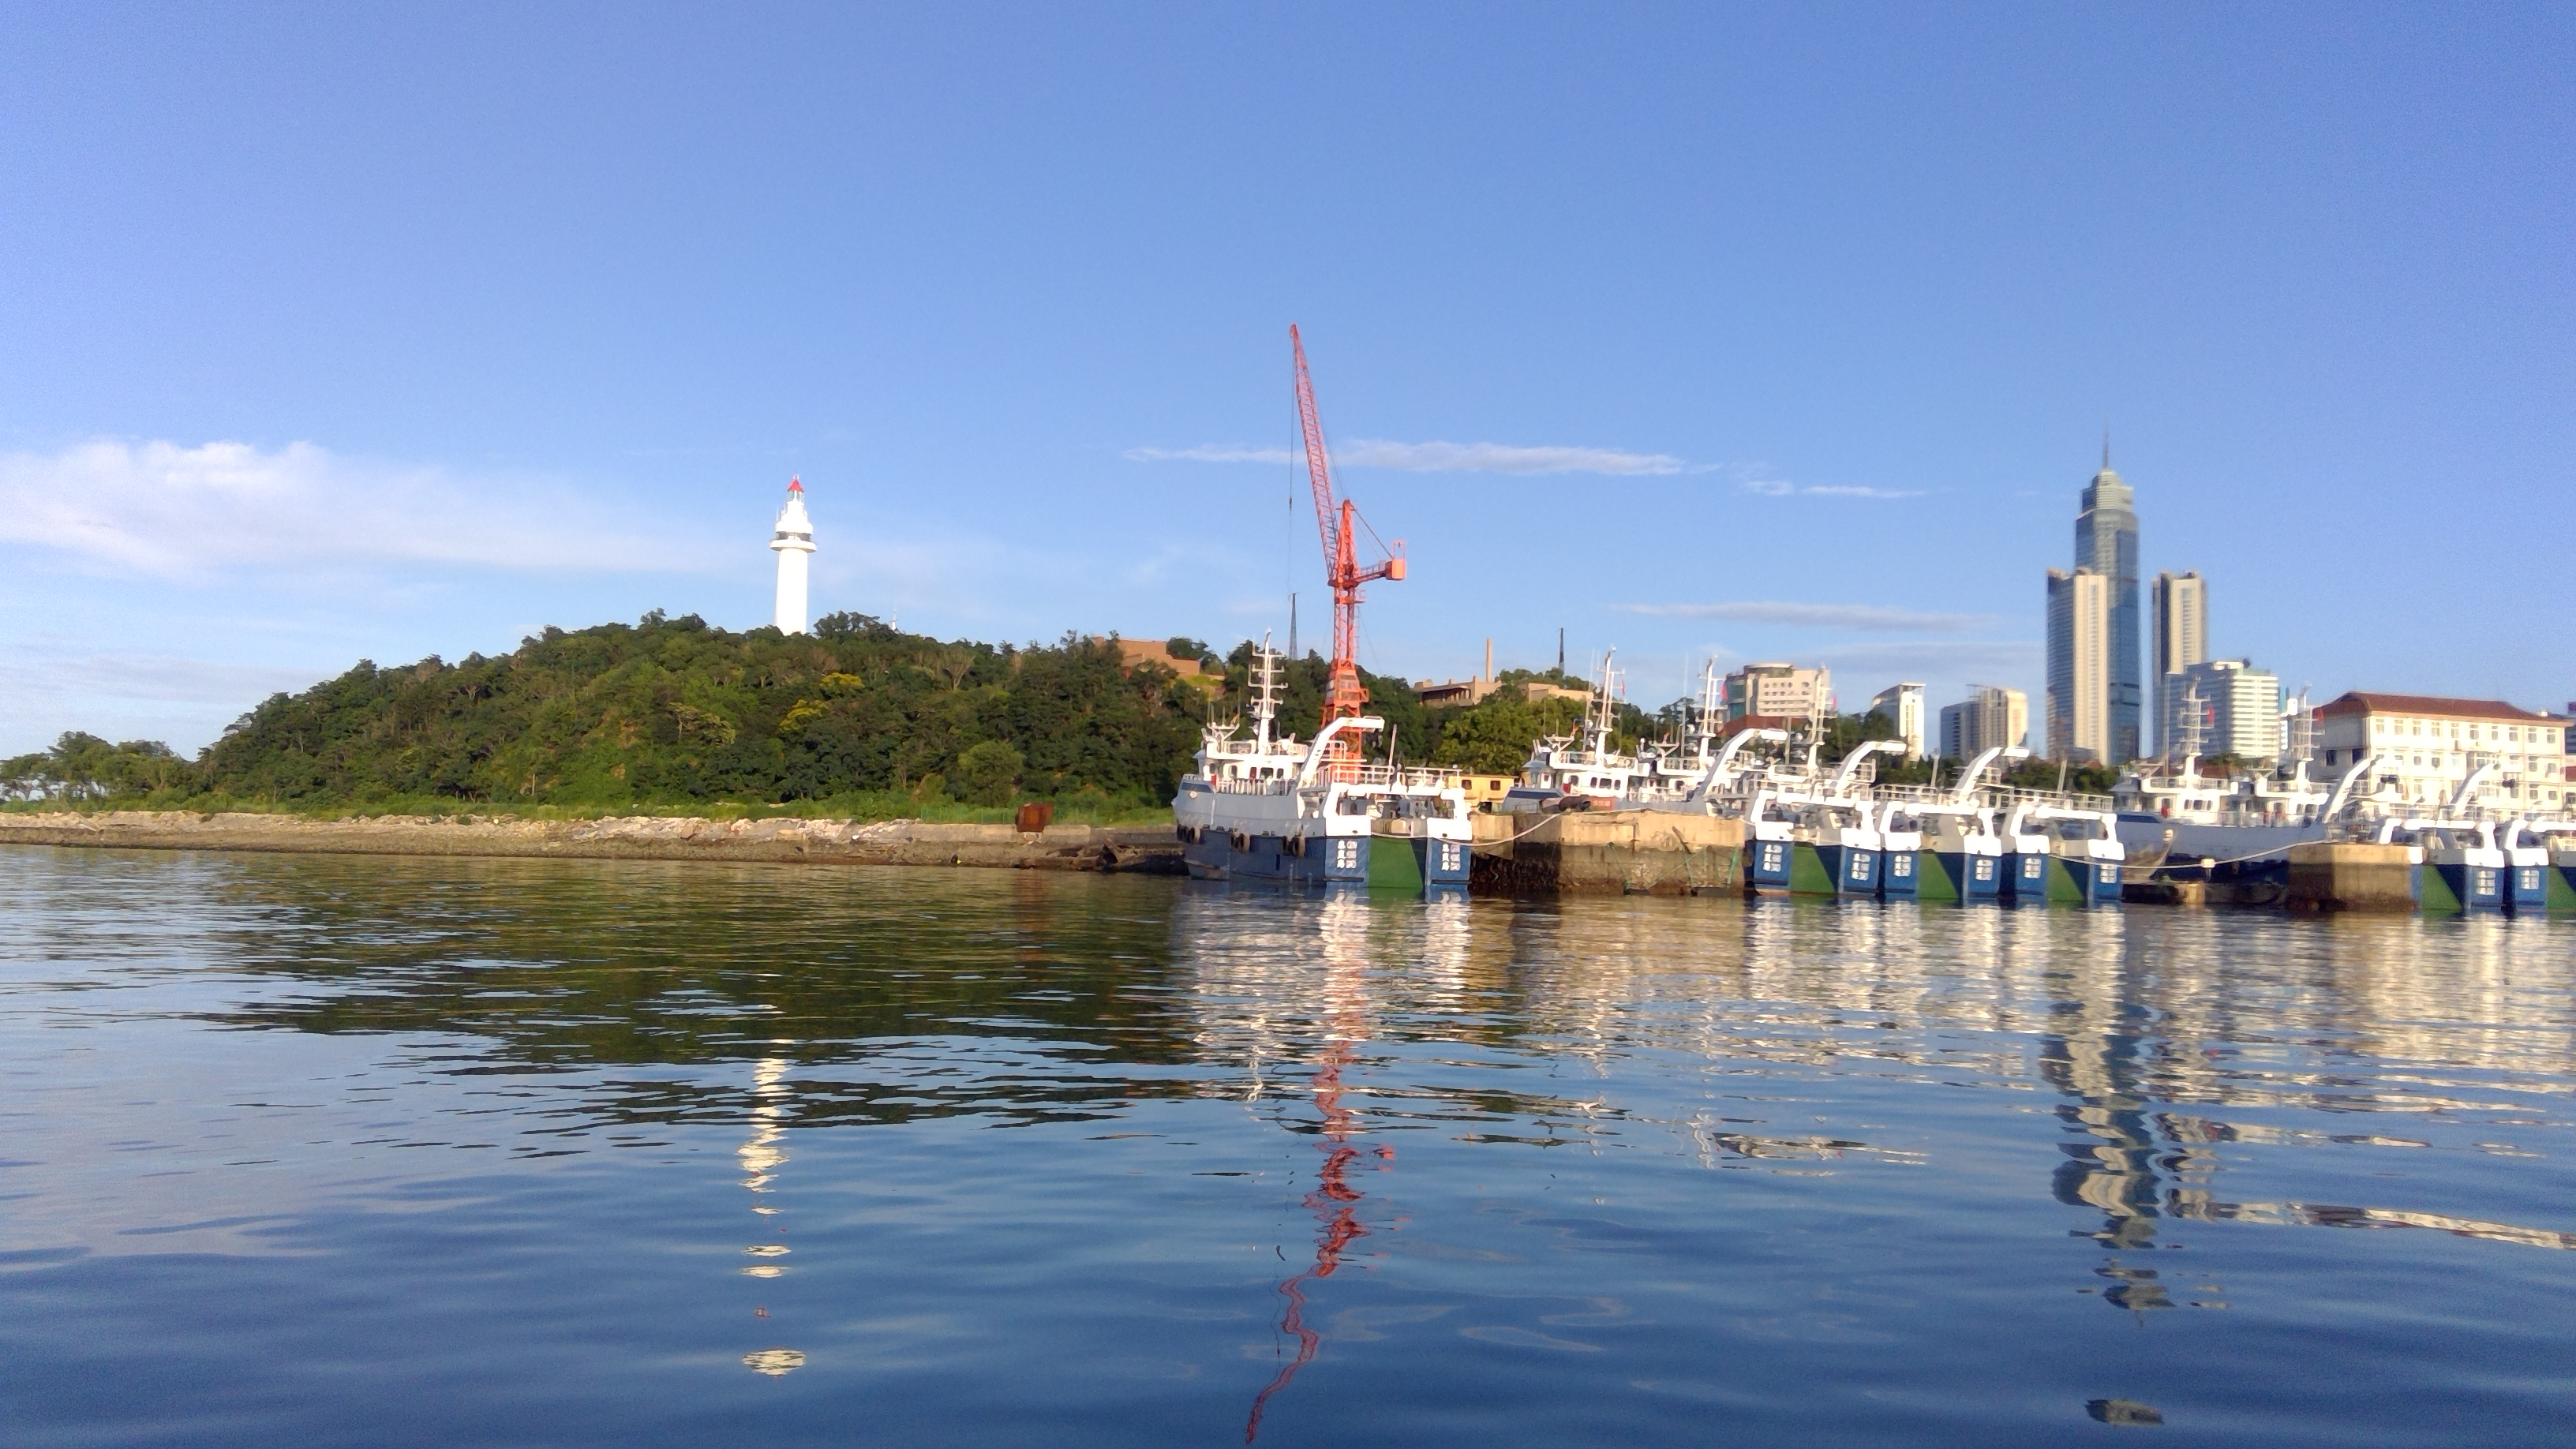ship: (1159, 660, 1497, 906), (1495, 738, 1750, 899), (2206, 786, 2422, 922), (2436, 784, 2565, 929), (1911, 800, 2017, 916), (2033, 800, 2127, 916), (1757, 773, 1828, 908), (1840, 784, 1900, 908)
